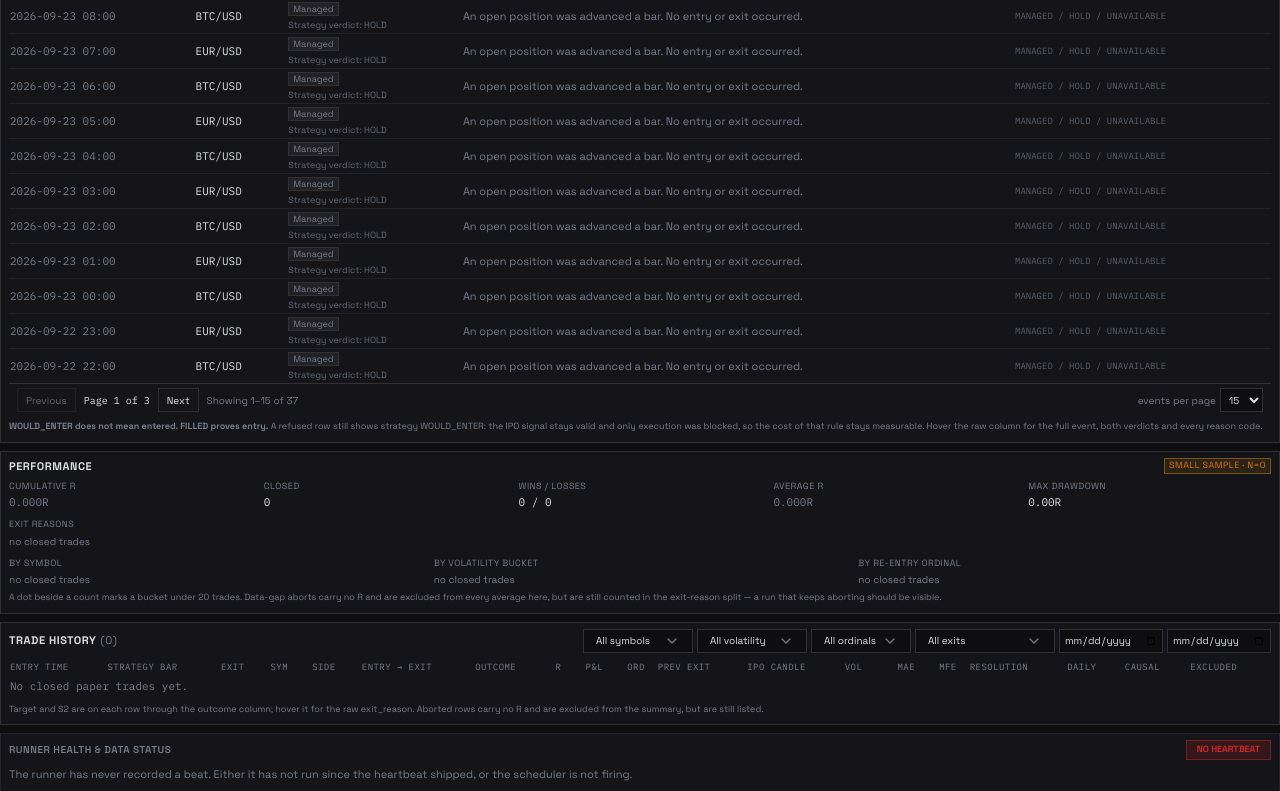
it: Why no trade? pagination › pages forward
This screenshot has width=1280, height=791.
(page scrolled)
Click the button "Next" at (178, 400), box [158,388,198,412]
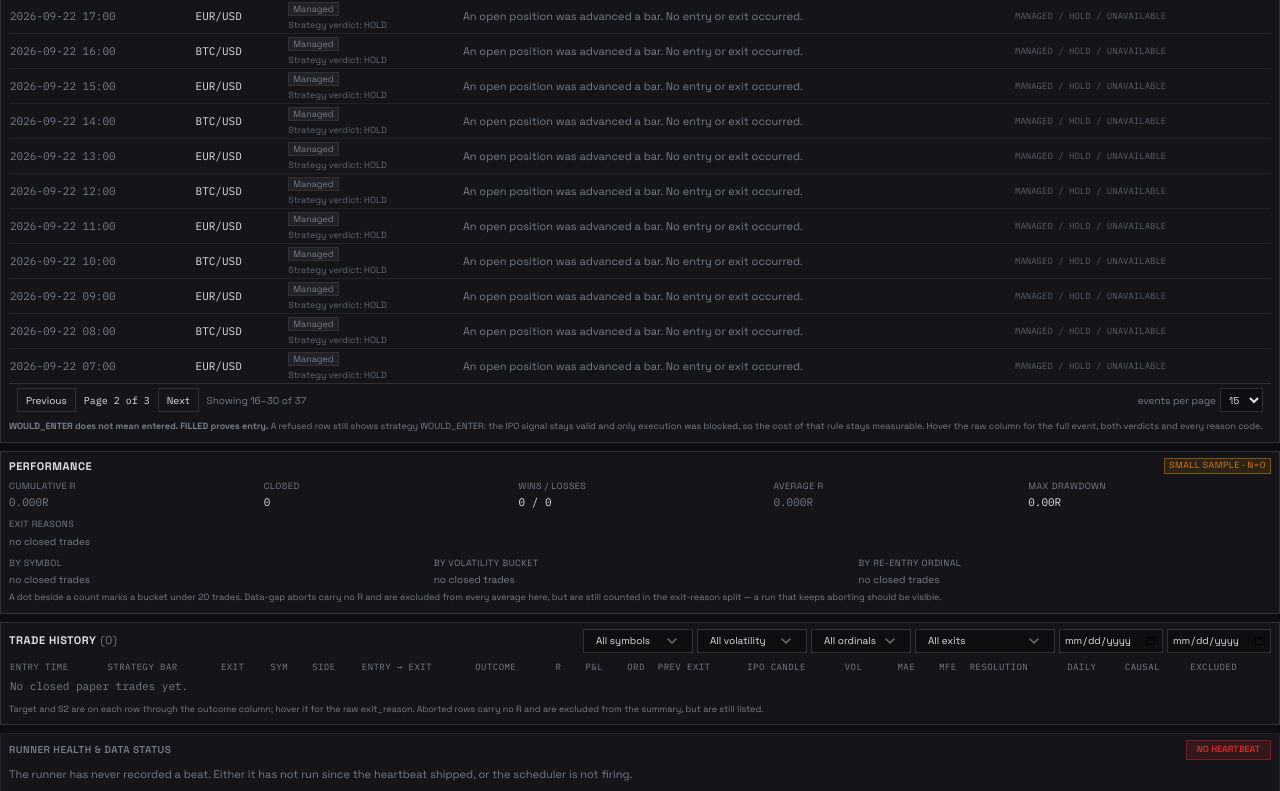
Expected: the text "Page 2 of 3" is shown, [84,393,150,408]
Expected: the text "Showing 16–30 of 37" is shown, [206,393,306,408]
